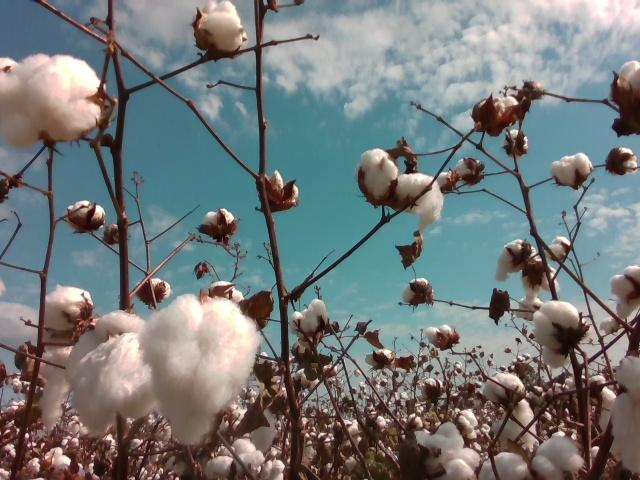cotton_ready: (138, 295, 260, 447), (64, 311, 158, 439), (0, 54, 110, 150), (357, 149, 444, 235), (400, 422, 481, 480), (483, 373, 538, 452), (38, 283, 95, 351), (531, 300, 586, 368), (611, 355, 640, 472), (38, 345, 76, 434), (195, 0, 248, 54), (203, 438, 266, 477), (532, 435, 586, 480), (494, 238, 538, 281), (288, 298, 330, 340), (609, 264, 640, 319), (549, 152, 595, 187), (616, 59, 640, 122), (589, 376, 615, 434), (475, 97, 522, 128), (522, 263, 560, 300), (479, 452, 528, 480), (259, 170, 300, 201), (65, 200, 106, 227), (201, 208, 238, 236), (208, 280, 245, 305), (401, 278, 435, 305), (455, 157, 483, 185), (515, 295, 544, 322), (610, 147, 637, 176), (138, 279, 170, 300), (544, 236, 570, 261), (504, 130, 529, 154), (426, 326, 453, 346), (366, 349, 393, 367), (437, 170, 454, 190)
